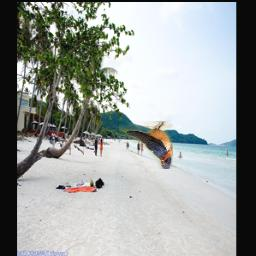Swallow: (118, 121, 172, 169)
